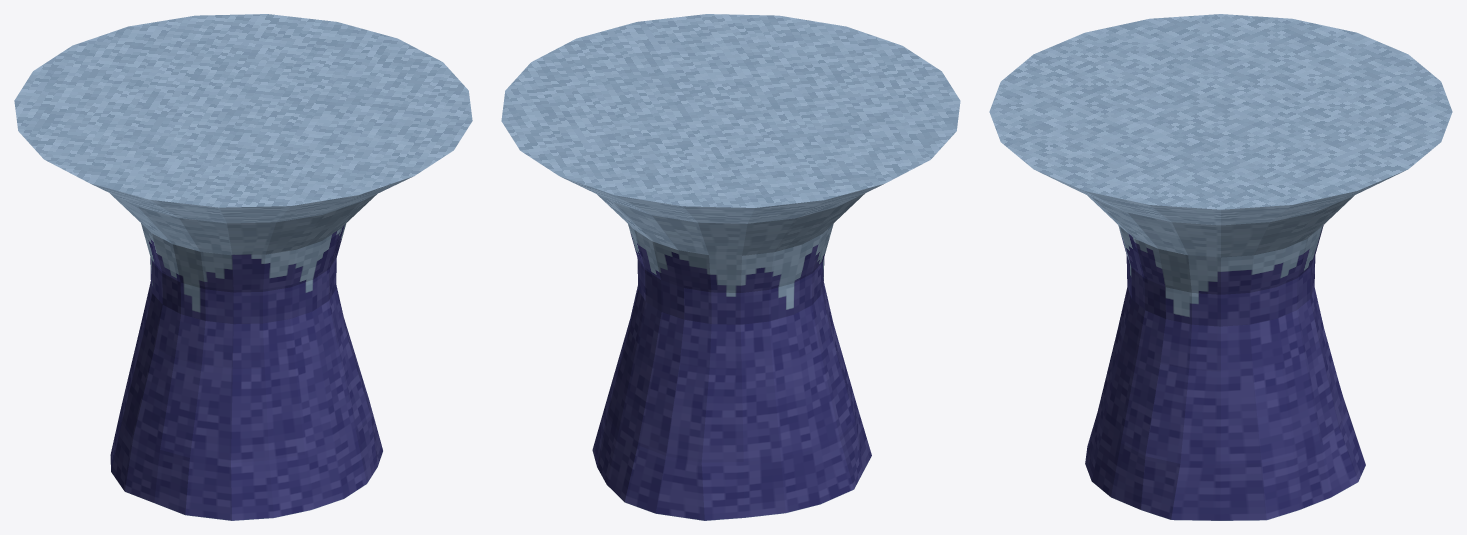
Rendered from Cave_Platform.fbx.
3 views of the same model, side by side, from view 1: azimuth 30°, elevation 25°; view 2: azimuth 150°, elevation 25°; view 3: azimuth 270°, elevation 25° (orthographic).
Visible parts, largest first — view 1: pCylinder11; view 2: pCylinder11; view 3: pCylinder11.
Part boxes in pixels (bbox=[...]): pCylinder11: bbox=[14, 14, 472, 520]; pCylinder11: bbox=[501, 14, 960, 520]; pCylinder11: bbox=[989, 14, 1452, 520].
Bounding box in the file's own units: 7.41 × 6.21 × 7.41.
